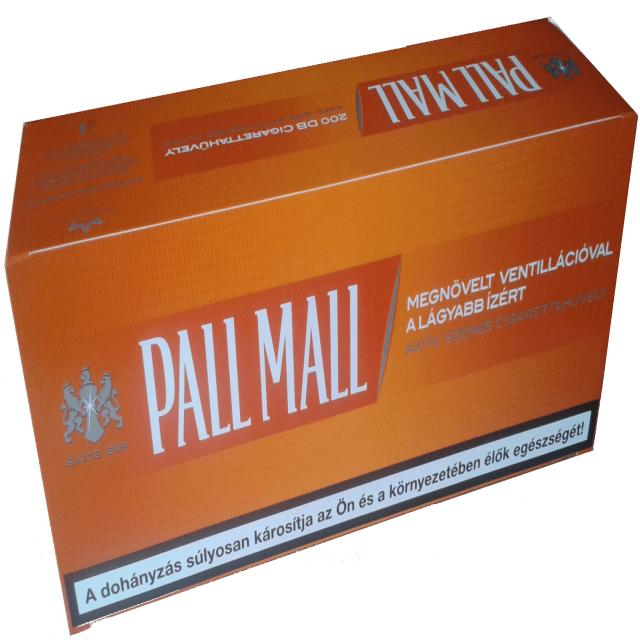pallmall: (7, 12, 640, 640)
